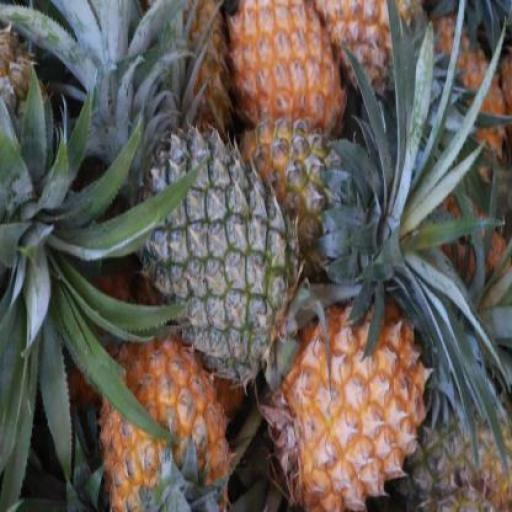Pineapple - v8 v1: (275, 310, 427, 512), (93, 343, 229, 511), (230, 0, 346, 148), (309, 0, 424, 103)
